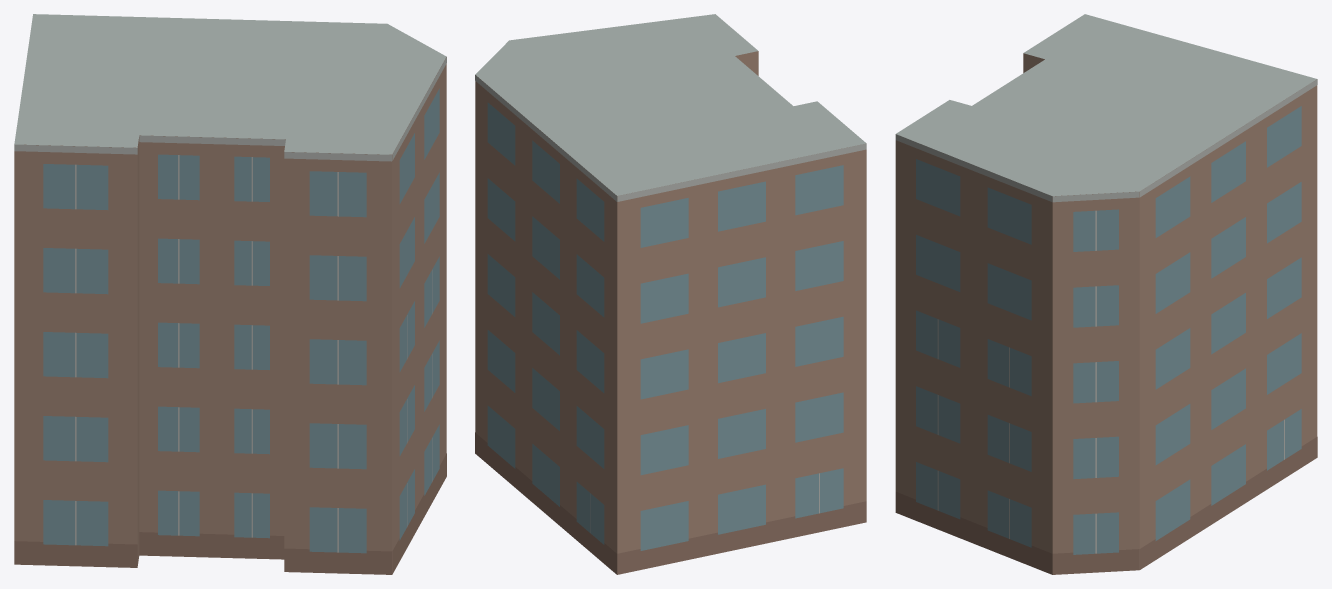
The model's file is survey-upis-32747270.glb.
3 renders of one model, left to right at view 1: azimuth 30°, elevation 25°; view 2: azimuth 150°, elevation 25°; view 3: azimuth 270°, elevation 25°, orthographic. The views are drawn at different scales.
Parts seen in each view (by area): view 1: survey-upis-32747270.tmp; view 2: survey-upis-32747270.tmp; view 3: survey-upis-32747270.tmp.
Part boxes in pixels (bbox=[...]): survey-upis-32747270.tmp: bbox=[14, 14, 446, 574]; survey-upis-32747270.tmp: bbox=[475, 14, 866, 574]; survey-upis-32747270.tmp: bbox=[895, 14, 1317, 574].
Size of the model in its own units: 15.75 by 15.25 by 15.41.
